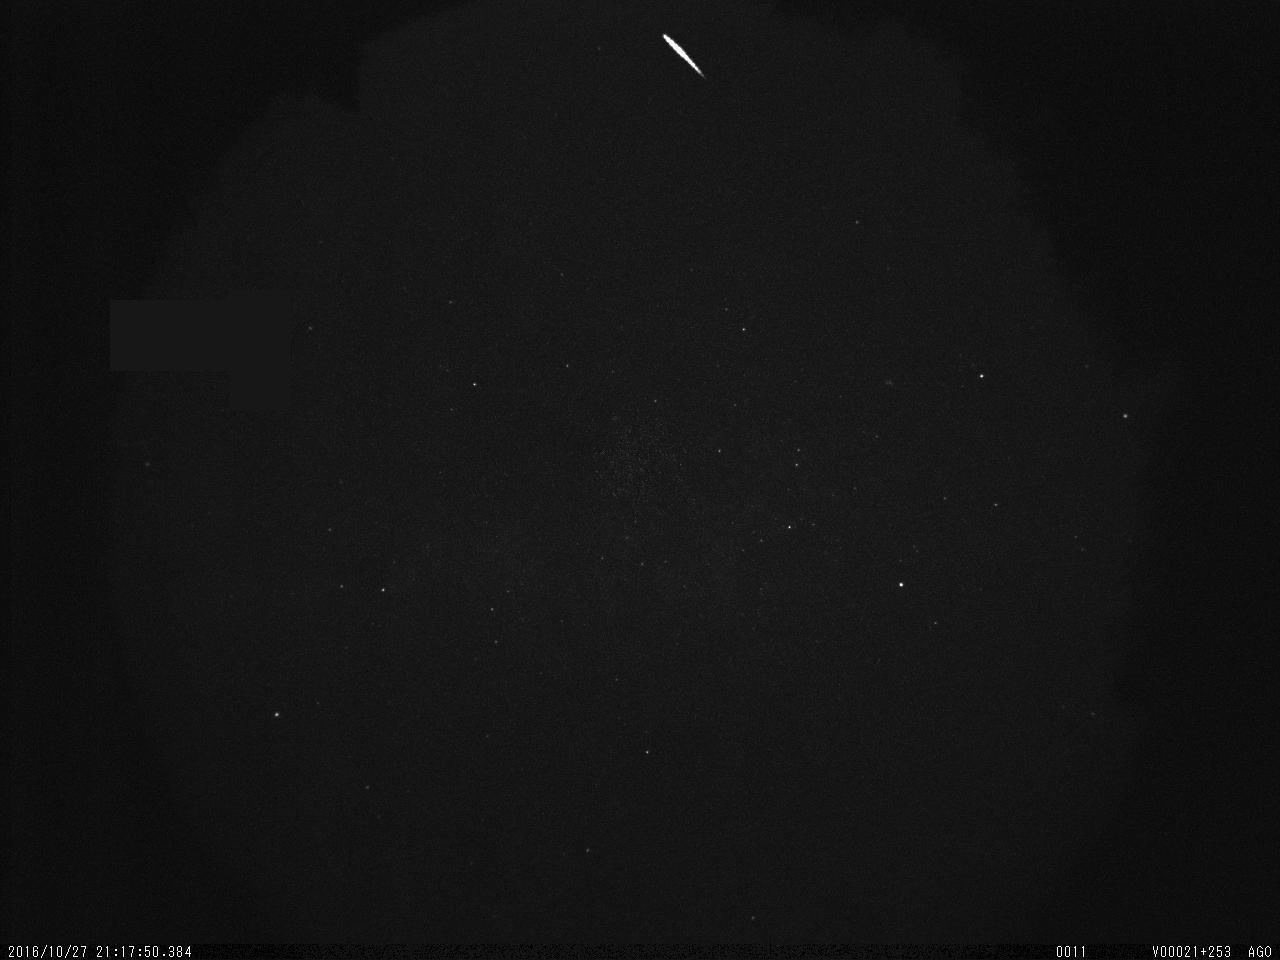meteor: (649, 24, 728, 88)
